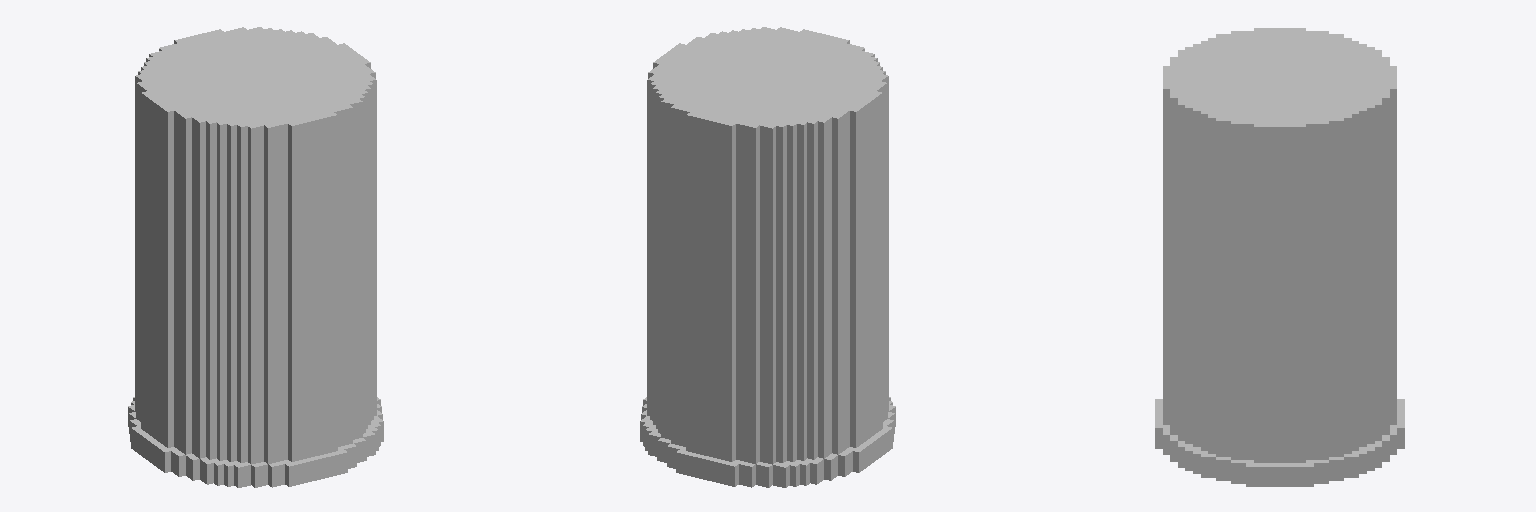
Rendered from Shotgun Shell.obj.
The picture shows the model from 3 angles: view 1: azimuth 30°, elevation 25°; view 2: azimuth 150°, elevation 25°; view 3: azimuth 270°, elevation 25°; orthographic projection.
Size of the model in its own units: 33 by 52 by 33.